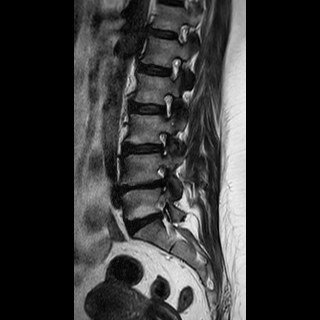LFS0: (156, 87, 178, 124), (164, 54, 185, 85)
LFS1: (151, 128, 174, 159)
